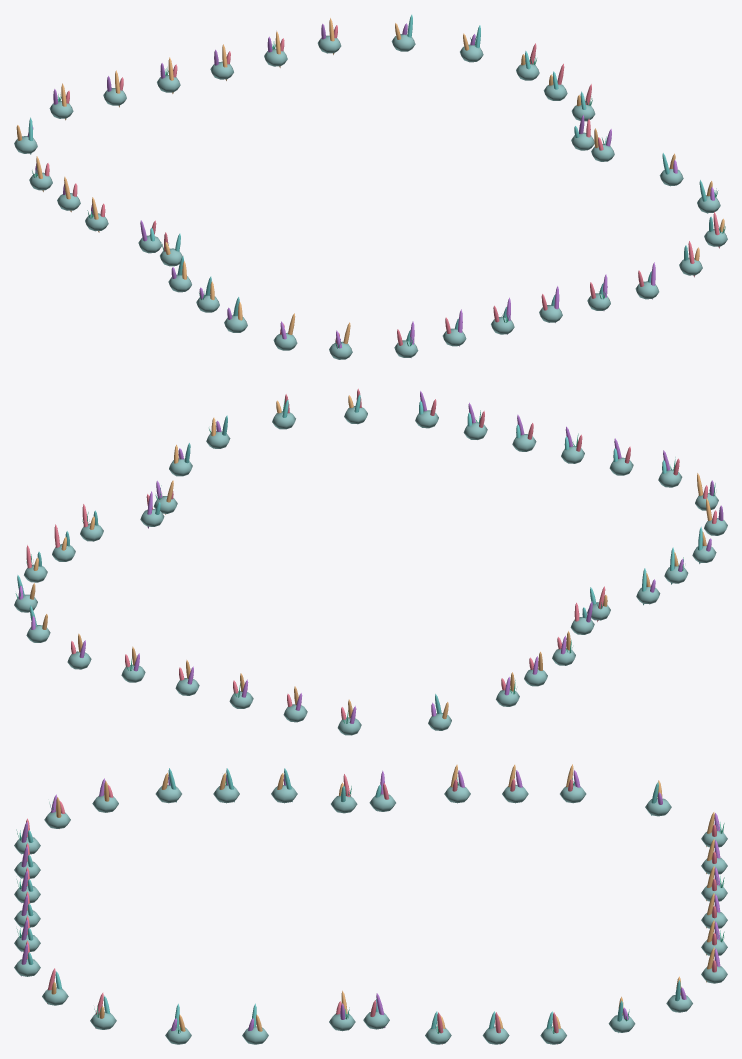
Rendered from reef-08-XYiXkzYj.glb.
The picture shows the model from 3 angles, top to bottom: view 1: azimuth 30°, elevation 25°; view 2: azimuth 150°, elevation 25°; view 3: azimuth 270°, elevation 25°; orthographic projection. The views are drawn at different scales.
Parts seen in each view (by area): view 1: ReefRock, Coral2, Coral1, Coral0, Coral3; view 2: ReefRock, Coral1, Coral2, Coral0, Coral3; view 3: ReefRock, Coral1, Coral2, Coral3, Coral0.
Boxes of the visible parts, x1,y1,x2,y2 form: ReefRock: (14,34,727,359); Coral2: (16,18,724,343); Coral1: (27,23,714,348); Coral0: (44,25,719,345); Coral3: (28,14,713,341); ReefRock: (14,406,727,735); Coral1: (18,391,723,723); Coral2: (30,395,712,719); Coral0: (26,388,716,719); Coral3: (17,394,702,713); ReefRock: (14,784,727,1044); Coral1: (21,770,720,1030); Coral2: (51,764,714,1031); Coral3: (28,768,680,1032); Coral0: (26,774,716,1044).
Bounding box in the file's own units: 31 × 2.06 × 37.1.
